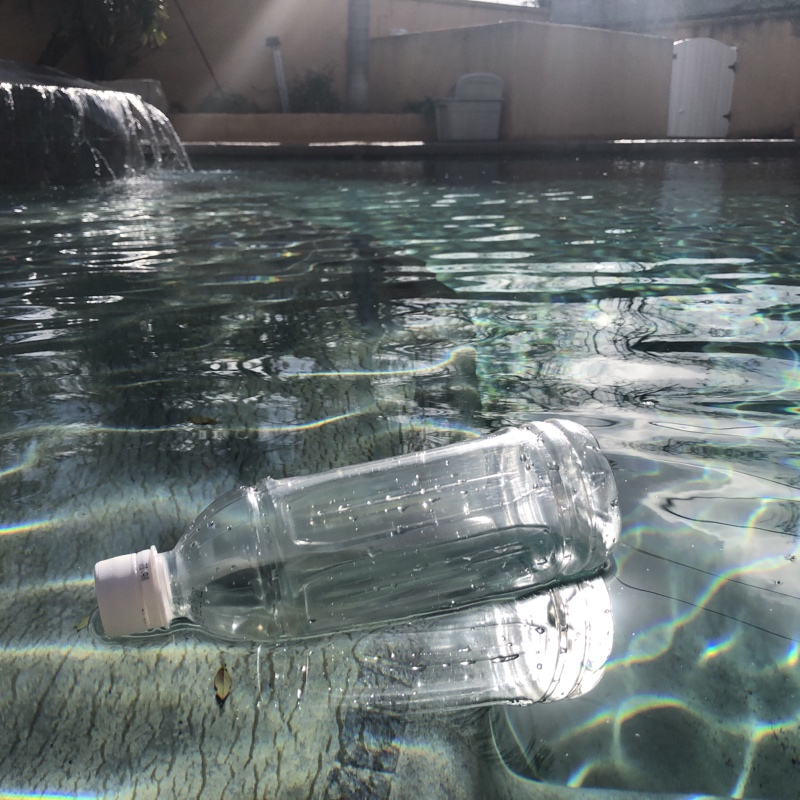Plastic Bottle: (92, 417, 628, 659)
